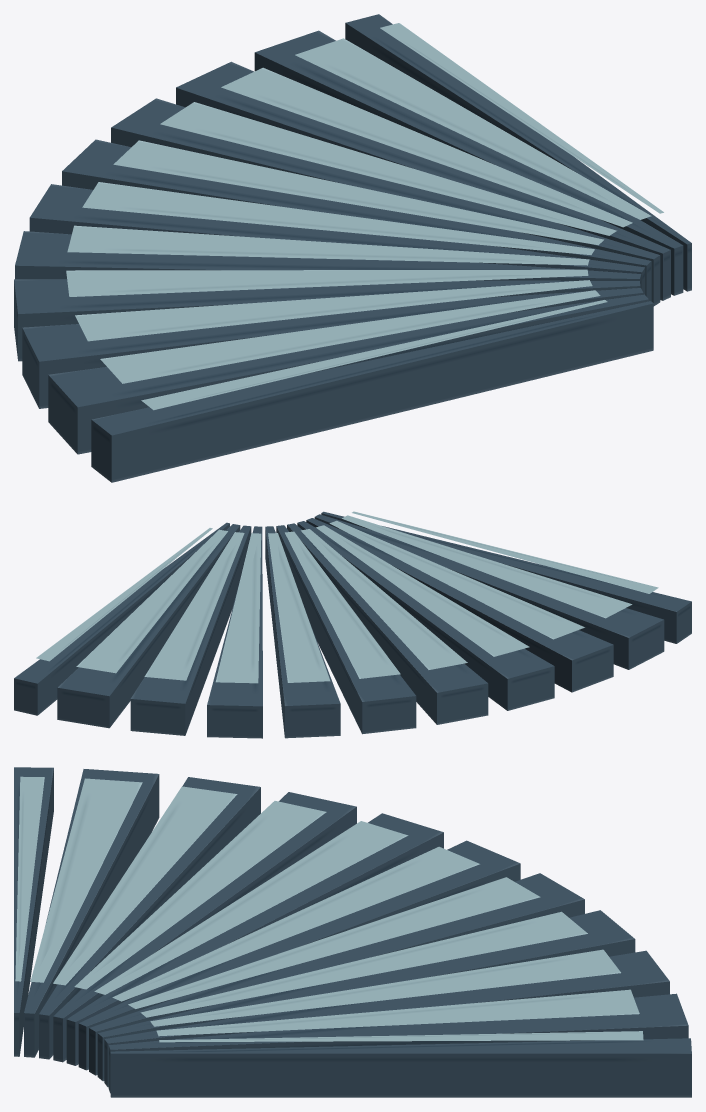
File: sc_tread_curve_right_15.obj
The picture shows the model from 3 angles, top to bottom: view 1: azimuth 30°, elevation 25°; view 2: azimuth 150°, elevation 25°; view 3: azimuth 270°, elevation 25°; orthographic projection. The views are drawn at different scales.
Bounding box in the file's own units: 17.5 × 1.56 × 17.5.
Materials: 1 (1 with a texture image).
